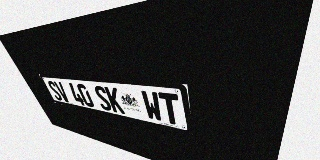0: (76, 83, 95, 108)
4: (67, 83, 86, 106)
K: (104, 86, 125, 114)
S: (92, 85, 113, 112), (46, 80, 64, 101)
T: (158, 92, 182, 126)
V: (53, 81, 71, 103)
W: (140, 90, 164, 122)
